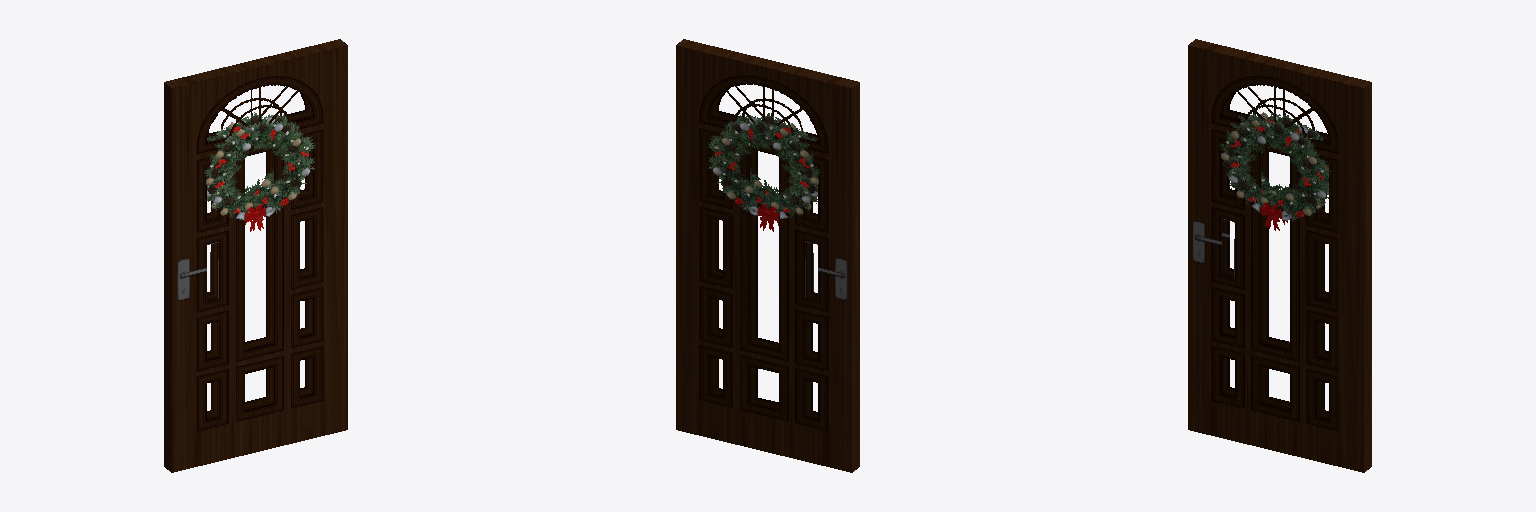
3 renders of one model, left to right at view 1: azimuth 30°, elevation 25°; view 2: azimuth 150°, elevation 25°; view 3: azimuth 330°, elevation 25°, orthographic.
Parts seen in each view (by area): view 1: Cube; view 2: Cube; view 3: Cube.
Part boxes in pixels (bbox=[...]): Cube: bbox=[164, 39, 347, 472]; Cube: bbox=[676, 39, 859, 472]; Cube: bbox=[1188, 39, 1371, 472].
Size of the model in its own units: 1.2 by 2.5 by 0.1.
1 materials, 1 textured.